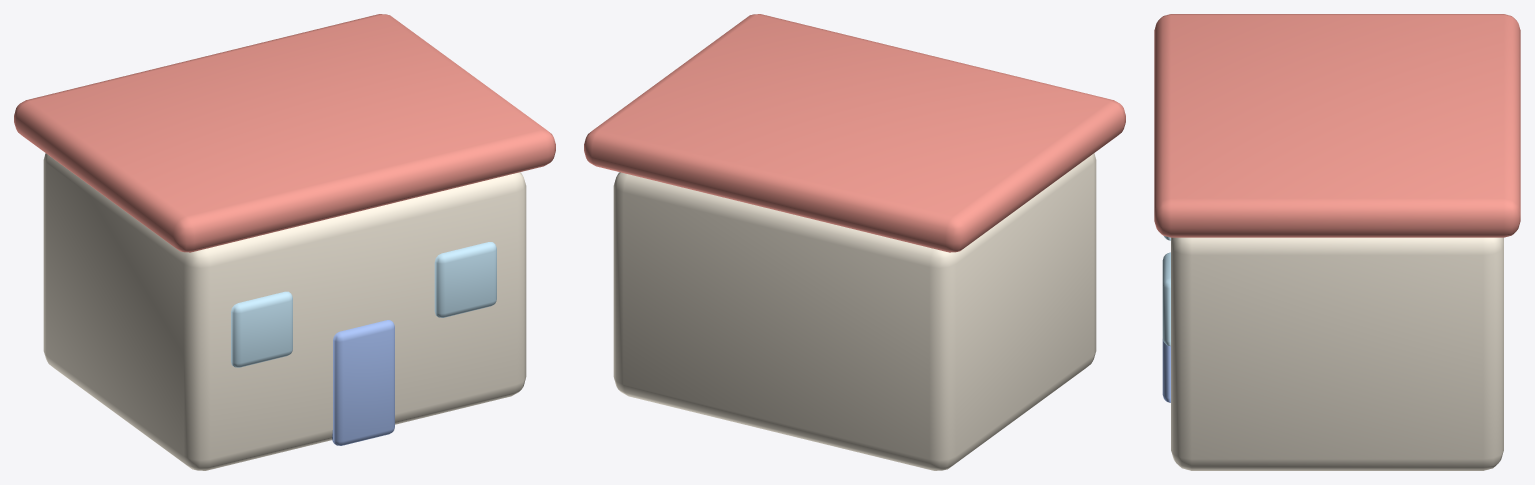
File: house.glb
3 views of the same model, side by side, from view 1: azimuth 30°, elevation 25°; view 2: azimuth 150°, elevation 25°; view 3: azimuth 270°, elevation 25° (orthographic). The views are drawn at different scales.
Visible parts, largest first — view 1: House; view 2: House; view 3: House.
Boxes of the visible parts, bbox=[...] form: House: bbox=[14, 14, 555, 470]; House: bbox=[584, 14, 1125, 470]; House: bbox=[1154, 14, 1520, 470].
Bounding box in the file's own units: 5.6 × 3.75 × 4.4.
